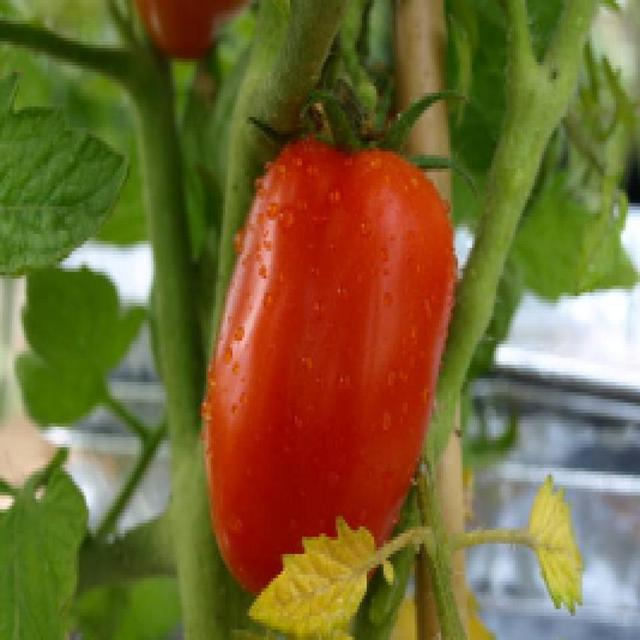Healthy Fruit: (135, 75, 302, 412)
